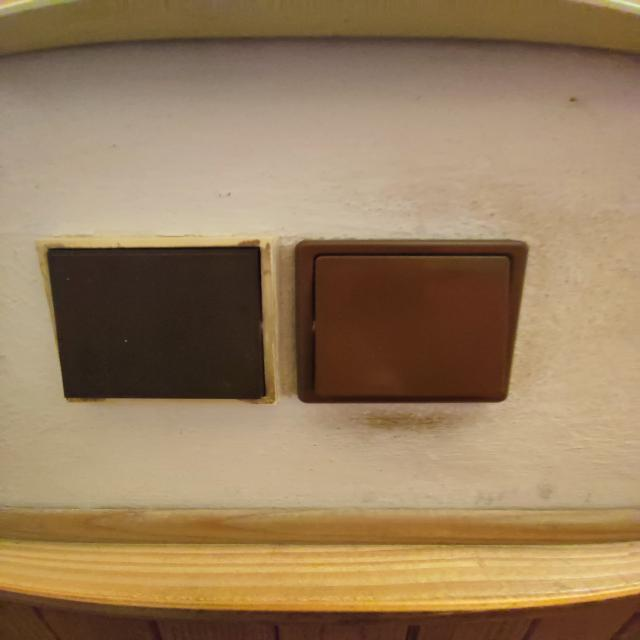house switch: (42, 237, 279, 405), (297, 239, 527, 403)
